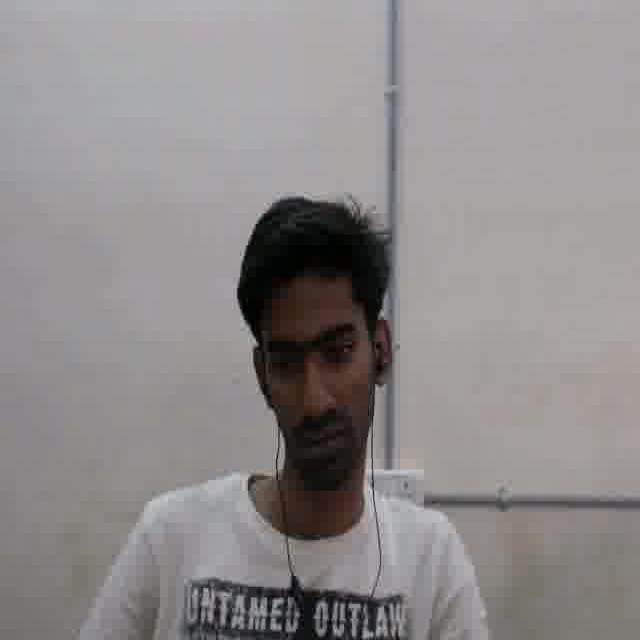Boredom: (255, 281, 374, 479)
